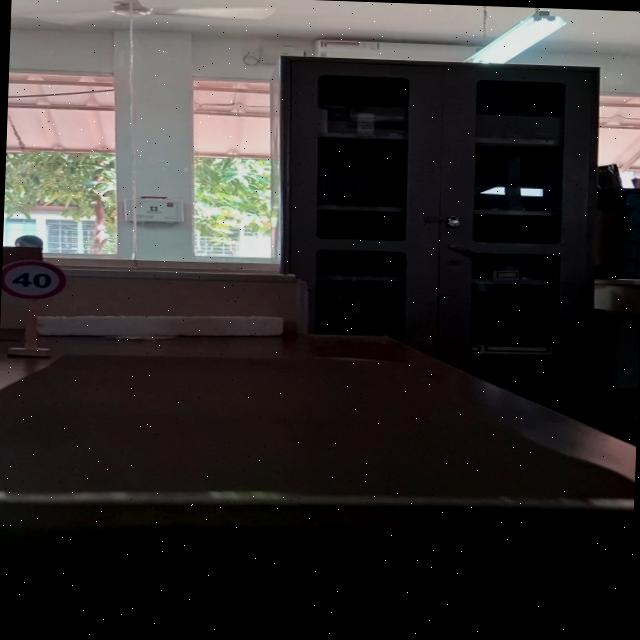Speed40: (0, 258, 68, 302)
